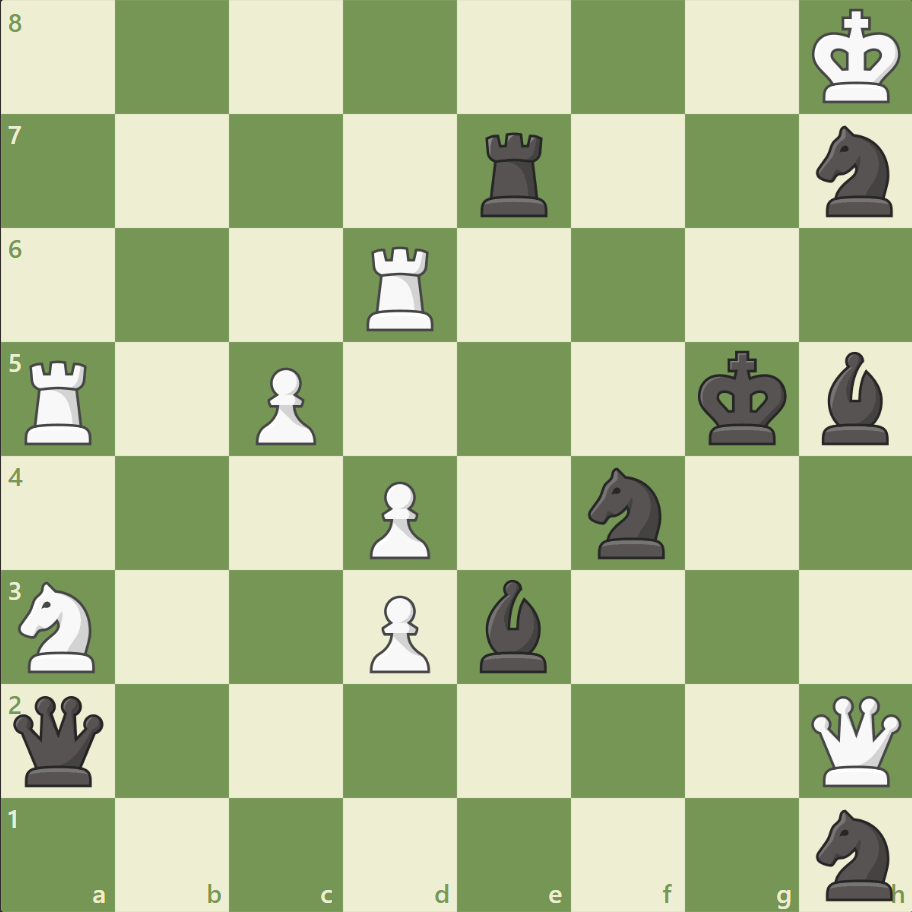K: (806, 4, 906, 112)
N: (11, 575, 108, 677)
P: (247, 359, 322, 450), (361, 473, 435, 564), (361, 586, 435, 677)
Q: (805, 690, 904, 789)
R: (19, 352, 102, 449), (360, 239, 442, 336)
b: (812, 347, 896, 449), (471, 574, 555, 676)
k: (692, 344, 792, 452)
n: (579, 461, 676, 564), (806, 121, 903, 223), (806, 802, 903, 904)
q: (10, 690, 109, 789)
r: (473, 125, 556, 222)
